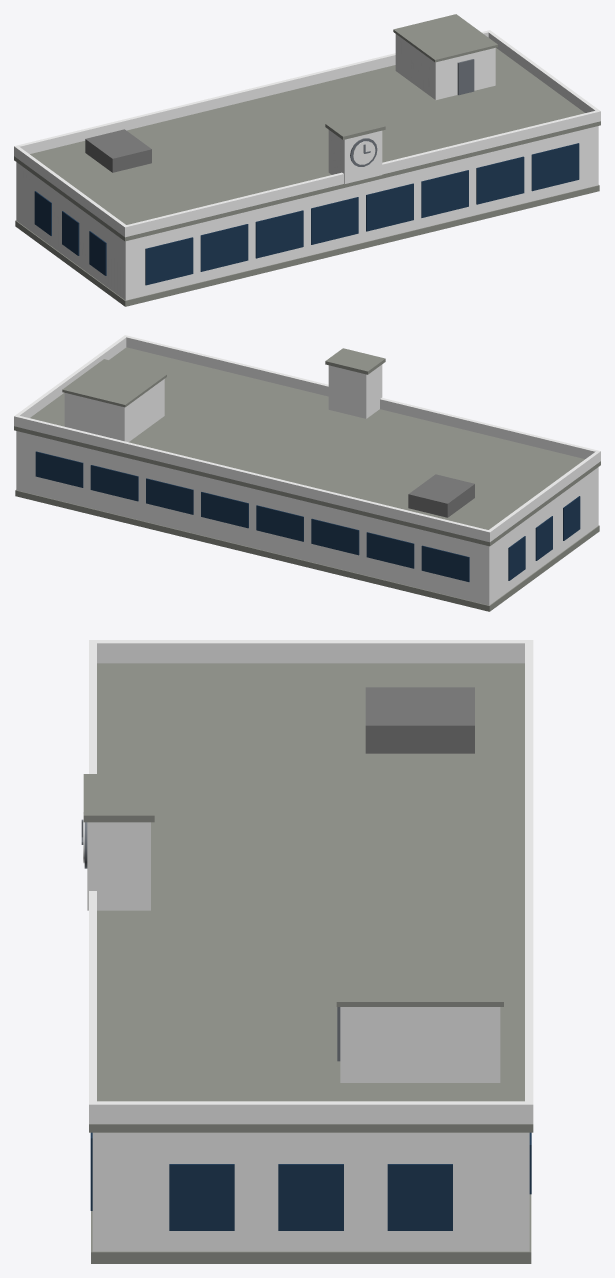
Rendered from mashup-main-top-prebuilt.fbx.
3 views of the same model, one above another, from view 1: azimuth 30°, elevation 25°; view 2: azimuth 150°, elevation 25°; view 3: azimuth 270°, elevation 25° (orthographic). The views are drawn at different scales.
Parts seen in each view (by area): view 1: a200.MainTop; view 2: a200.MainTop; view 3: a200.MainTop.
Boxes of the visible parts, <box> form: a200.MainTop: <box>14,14,600,306</box>; a200.MainTop: <box>14,335,600,611</box>; a200.MainTop: <box>81,640,533,1263</box>.
Bounding box in the file's own units: 30.2 × 7.2 × 12.4.
